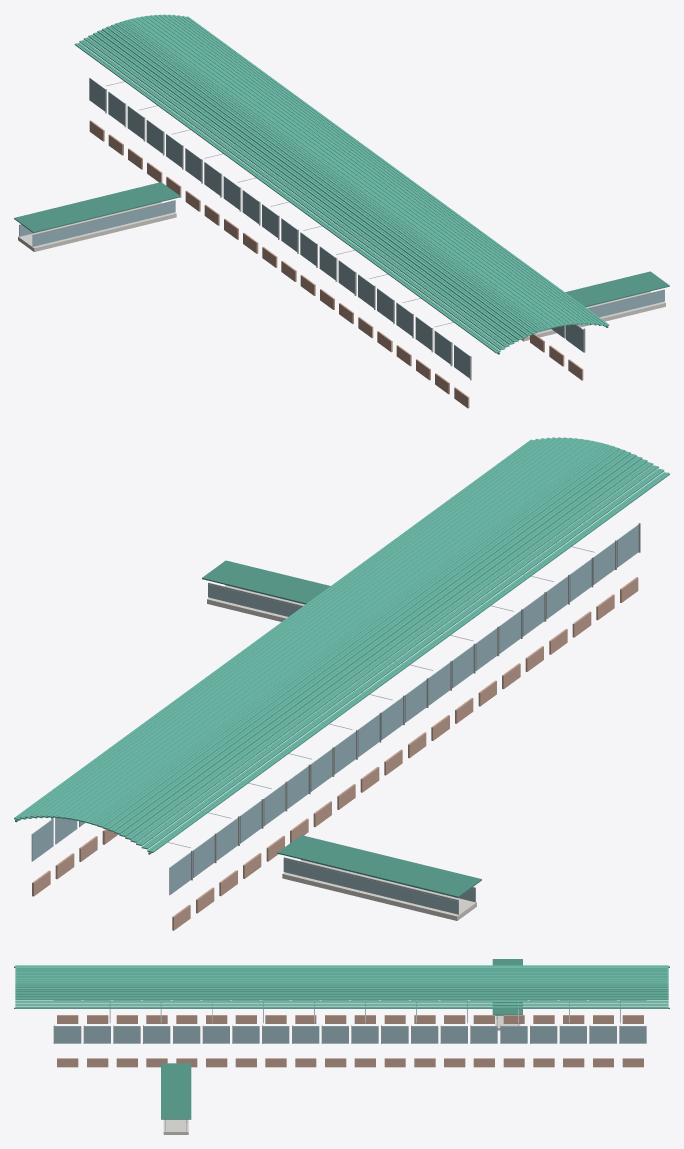
Rendered from station-14-photo-reference.glb.
3 renders of one model, top to bottom at view 1: azimuth 30°, elevation 25°; view 2: azimuth 150°, elevation 25°; view 3: azimuth 270°, elevation 25°, orthographic. The views are drawn at different scales.
Visible parts, largest first — view 1: Station 14 photo-informed architecture and surroundings; view 2: Station 14 photo-informed architecture and surroundings; view 3: Station 14 photo-informed architecture and surroundings.
Boxes of the visible parts, x1,y1,x2,y2 form: Station 14 photo-informed architecture and surroundings: [14, 14, 669, 408]; Station 14 photo-informed architecture and surroundings: [14, 437, 669, 930]; Station 14 photo-informed architecture and surroundings: [14, 959, 669, 1134].
Size of the model in its own units: 89 by 20.31 by 154.
